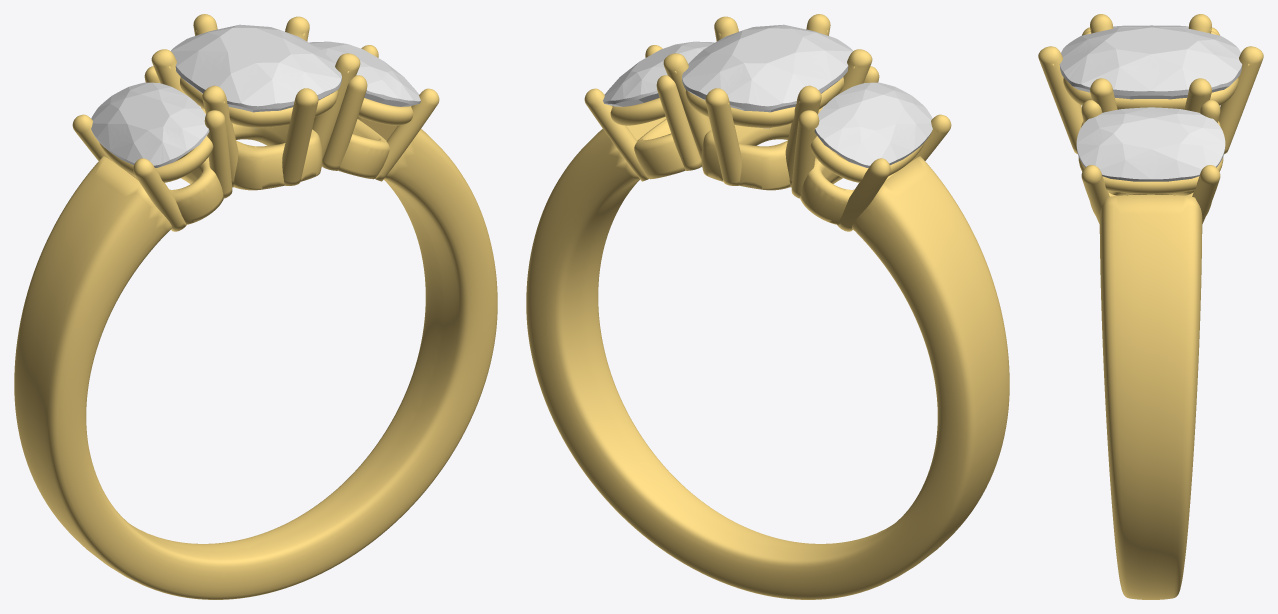
The model's file is diamond-cushion-yellowgold-6prong-straighttaperedband-3stone.glb.
3 renders of one model, left to right at view 1: azimuth 30°, elevation 25°; view 2: azimuth 150°, elevation 25°; view 3: azimuth 270°, elevation 25°, orthographic.
Parts seen in each view (by area): view 1: metal.001, stone.002, side.004, side.005; view 2: metal.001, stone.002, side.004, side.005; view 3: metal.001, stone.002, side.005.
Boxes of the visible parts, box(x1,y1,x2,y2) form: metal.001: box(14, 14, 497, 599); stone.002: box(171, 24, 341, 128); side.004: box(91, 82, 209, 167); side.005: box(309, 41, 420, 106); metal.001: box(526, 14, 1009, 599); stone.002: box(682, 24, 852, 128); side.004: box(814, 82, 932, 167); side.005: box(603, 41, 714, 106); metal.001: box(1038, 14, 1263, 599); stone.002: box(1059, 27, 1242, 99); side.005: box(1076, 107, 1225, 181).
Size of the model in its own units: 20.1 by 23.04 by 8.8.
